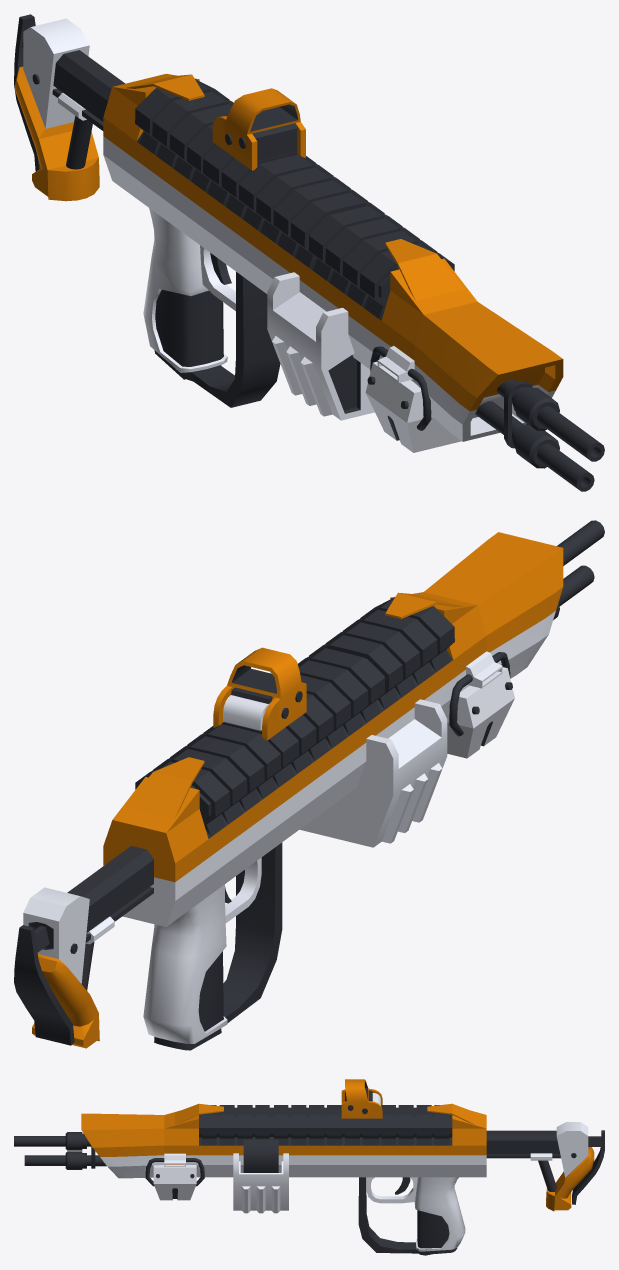
The model's file is biggun2.fbx.
3 renders of one model, top to bottom at view 1: azimuth 30°, elevation 25°; view 2: azimuth 150°, elevation 25°; view 3: azimuth 270°, elevation 25°, orthographic. The views are drawn at different scales.
Parts seen in each view (by area): view 1: mergedBlocks; view 2: mergedBlocks; view 3: mergedBlocks.
Part boxes in pixels (bbox=[...]): mergedBlocks: bbox=[14, 14, 604, 491]; mergedBlocks: bbox=[14, 520, 604, 1050]; mergedBlocks: bbox=[14, 1079, 604, 1255].
Size of the model in its own units: 7.7 by 17.4 by 55.
